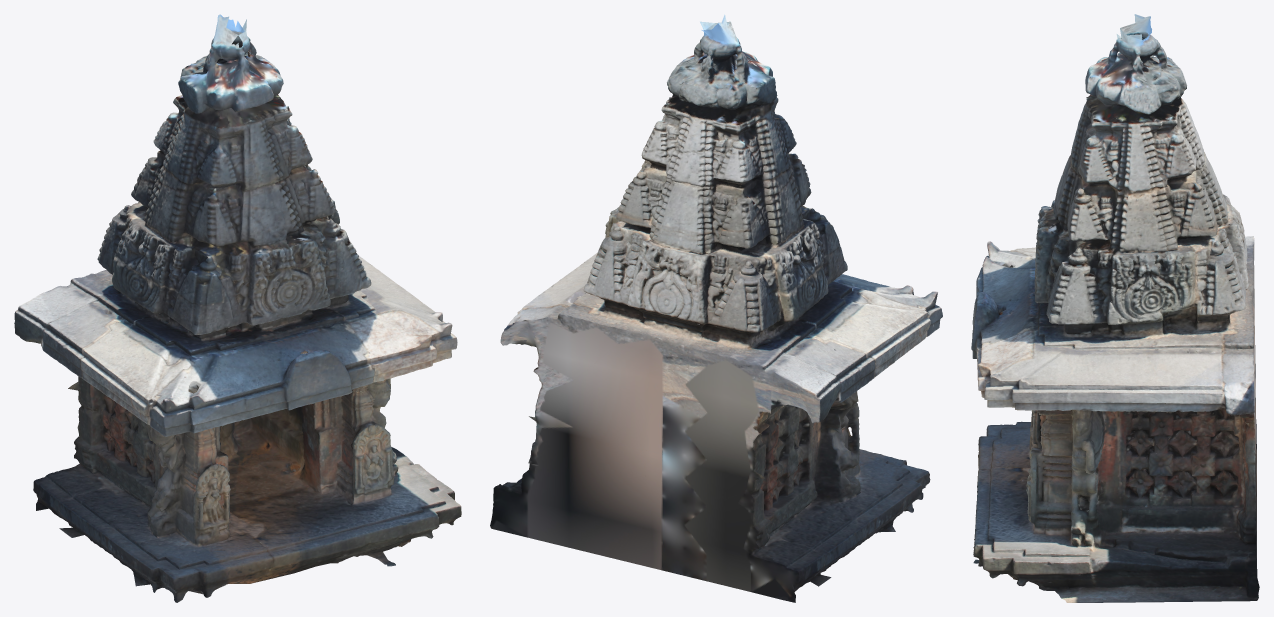
The picture shows the model from 3 angles, left to right: view 1: azimuth 30°, elevation 25°; view 2: azimuth 150°, elevation 25°; view 3: azimuth 270°, elevation 25°; orthographic projection.
Visible parts, largest first — view 1: Object_2, Object_3; view 2: Object_2, Object_3, Object_4; view 3: Object_3, Object_2.
Boxes of the visible parts, <box> form: Object_2: <box>14,14,457,602</box>; Object_3: <box>18,205,461,573</box>; Object_2: <box>515,14,930,587</box>; Object_3: <box>490,205,942,602</box>; Object_4: <box>584,144,808,298</box>; Object_3: <box>971,200,1259,602</box>; Object_2: <box>972,14,1255,487</box>.
Bounding box in the file's own units: 18.85 × 28.22 × 14.52.
1 material, 1 textured.
